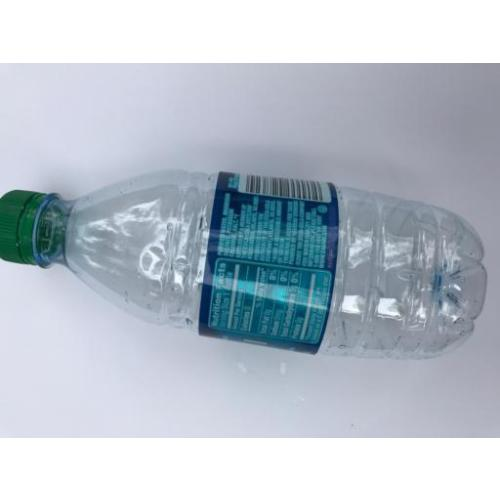plastic: (2, 168, 488, 361)
